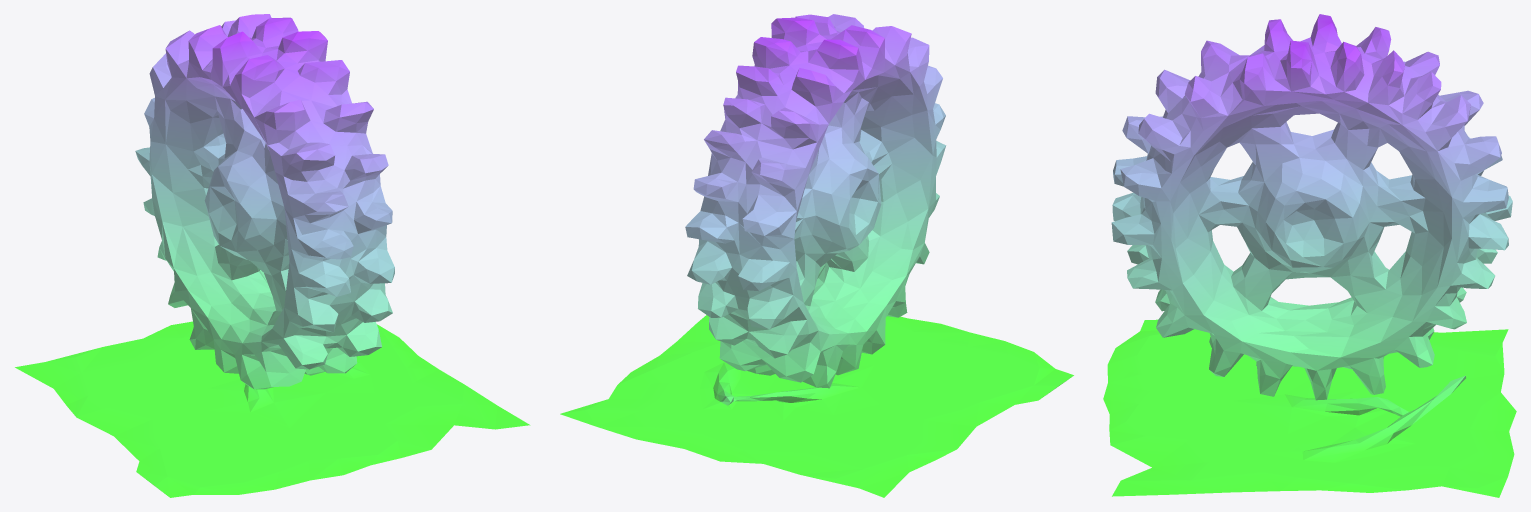
The model's file is 44_cyb_laser_gradient_fish_scales_2818_2026_10_03_e8ef7c.glb.
The picture shows the model from 3 angles, left to right: view 1: azimuth 30°, elevation 25°; view 2: azimuth 150°, elevation 25°; view 3: azimuth 270°, elevation 25°; orthographic projection. The views are drawn at different scales.
Parts seen in each view (by area): view 1: geometry_0; view 2: geometry_0; view 3: geometry_0.
Boxes of the visible parts, <box> form: geometry_0: <box>15,14,530,497</box>; geometry_0: <box>560,14,1073,497</box>; geometry_0: <box>1103,14,1516,497</box>.
Bounding box in the file's own units: 0.9784 × 0.9766 × 0.9609.
